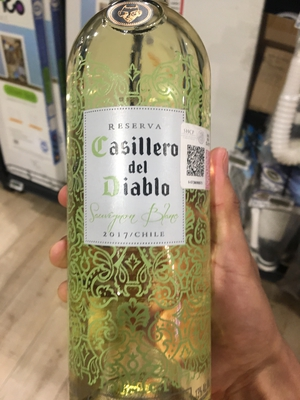casillero del diablo sauvignon blanc: (65, 5, 225, 400)
